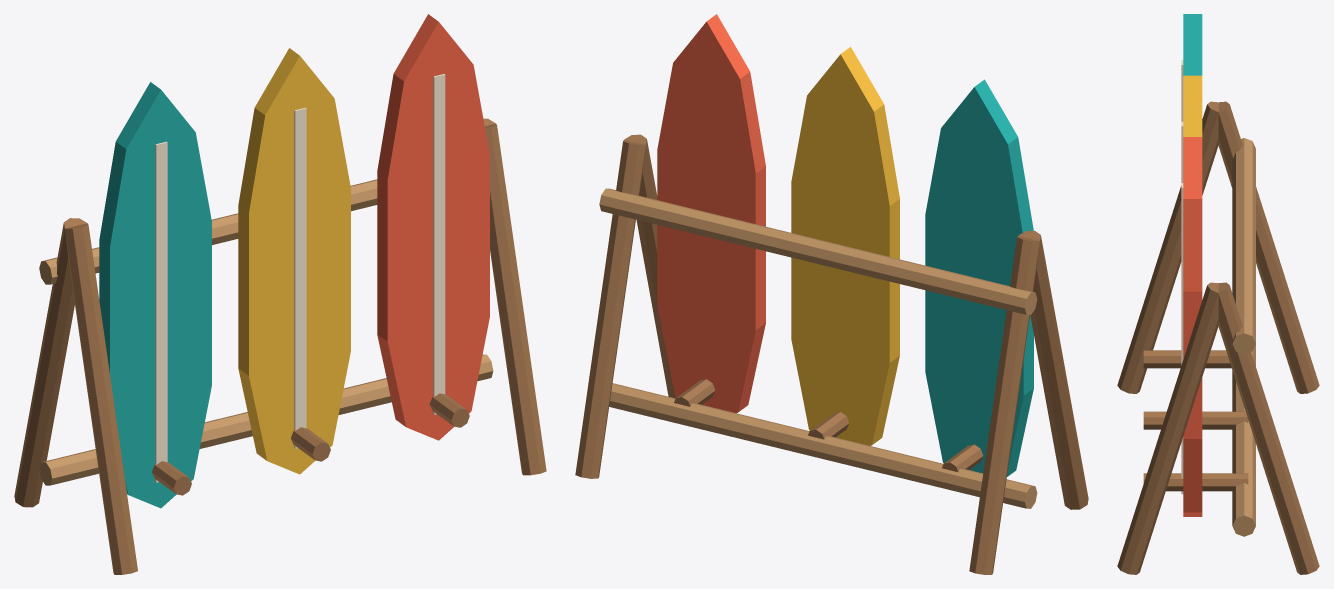
Rendered from surf-rack.glb.
The picture shows the model from 3 angles, left to right: view 1: azimuth 30°, elevation 25°; view 2: azimuth 150°, elevation 25°; view 3: azimuth 270°, elevation 25°; orthographic projection. The views are drawn at different scales.
Parts seen in each view (by area): view 1: Upright yellow surfboard, Upright coral surfboard, Upright teal surfboard, A-frame rack leg, A-frame rack leg.002, A-frame rack leg.001, Rack cross rail, Simple surfboard stripe.001, Simple surfboard stripe.002, Simple surfboard stripe, Rack cross rail.001, Board support peg (+2 smaller); view 2: Upright coral surfboard, Upright yellow surfboard, Upright teal surfboard, Rack cross rail.001, Rack cross rail, A-frame rack leg.001, A-frame rack leg.003, A-frame rack leg, A-frame rack leg.002, Board support peg.001, Board support peg.002, Board support peg; view 3: A-frame rack leg.002, A-frame rack leg.003, Upright coral surfboard, A-frame rack leg.001, A-frame rack leg, Rack cross rail.001, Rack cross rail, Upright teal surfboard, Upright yellow surfboard, Board support peg.001, Board support peg, Board support peg.002 (+1 smaller).
Boxes of the visible parts, bbox=[...] form: Upright yellow surfboard: bbox=[238, 48, 350, 474]; Upright coral surfboard: bbox=[377, 14, 489, 440]; Upright teal surfboard: bbox=[99, 82, 211, 508]; A-frame rack leg: bbox=[65, 223, 137, 574]; A-frame rack leg.002: bbox=[485, 123, 546, 475]; A-frame rack leg.001: bbox=[14, 218, 86, 507]; Rack cross rail: bbox=[39, 354, 493, 485]; Simple surfboard stripe.001: bbox=[294, 107, 306, 448]; Simple surfboard stripe.002: bbox=[433, 74, 445, 414]; Simple surfboard stripe: bbox=[155, 141, 167, 482]; Rack cross rail.001: bbox=[39, 179, 377, 284]; Board support peg: bbox=[152, 461, 191, 495]; Upright coral surfboard: bbox=[657, 14, 765, 413]; Upright yellow surfboard: bbox=[791, 47, 899, 445]; Upright teal surfboard: bbox=[925, 79, 1033, 476]; Rack cross rail.001: bbox=[599, 188, 1037, 314]; Rack cross rail: bbox=[609, 383, 1037, 508]; A-frame rack leg.001: bbox=[969, 235, 1039, 574]; A-frame rack leg.003: bbox=[575, 139, 645, 478]; A-frame rack leg: bbox=[1018, 230, 1088, 509]; A-frame rack leg.002: bbox=[624, 134, 675, 398]; Board support peg.001: bbox=[808, 412, 849, 439]; Board support peg.002: bbox=[674, 379, 715, 406]; Board support peg: bbox=[942, 444, 983, 471]; A-frame rack leg.002: bbox=[1117, 282, 1218, 574]; A-frame rack leg.003: bbox=[1218, 282, 1319, 574]; Upright coral surfboard: bbox=[1183, 137, 1202, 516]; A-frame rack leg.001: bbox=[1218, 101, 1319, 393]; A-frame rack leg: bbox=[1117, 101, 1218, 393]; Rack cross rail.001: bbox=[1232, 138, 1255, 354]; Rack cross rail: bbox=[1232, 344, 1255, 536]; Upright teal surfboard: bbox=[1183, 14, 1202, 75]; Upright yellow surfboard: bbox=[1183, 75, 1202, 136]; Board support peg.001: bbox=[1143, 411, 1248, 429]; Board support peg: bbox=[1143, 350, 1231, 368]; Board support peg.002: bbox=[1143, 473, 1248, 491].
Size of the model in its own units: 2.16 by 2.1 by 0.9457.
